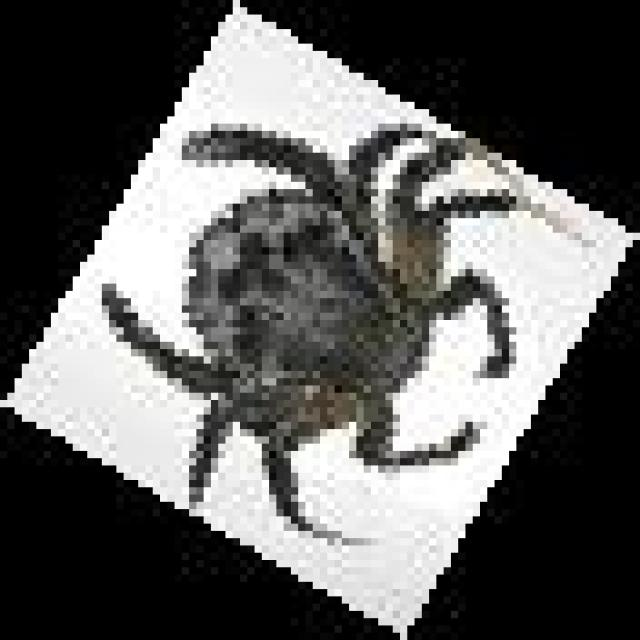European Green crab: (102, 124, 524, 531)
